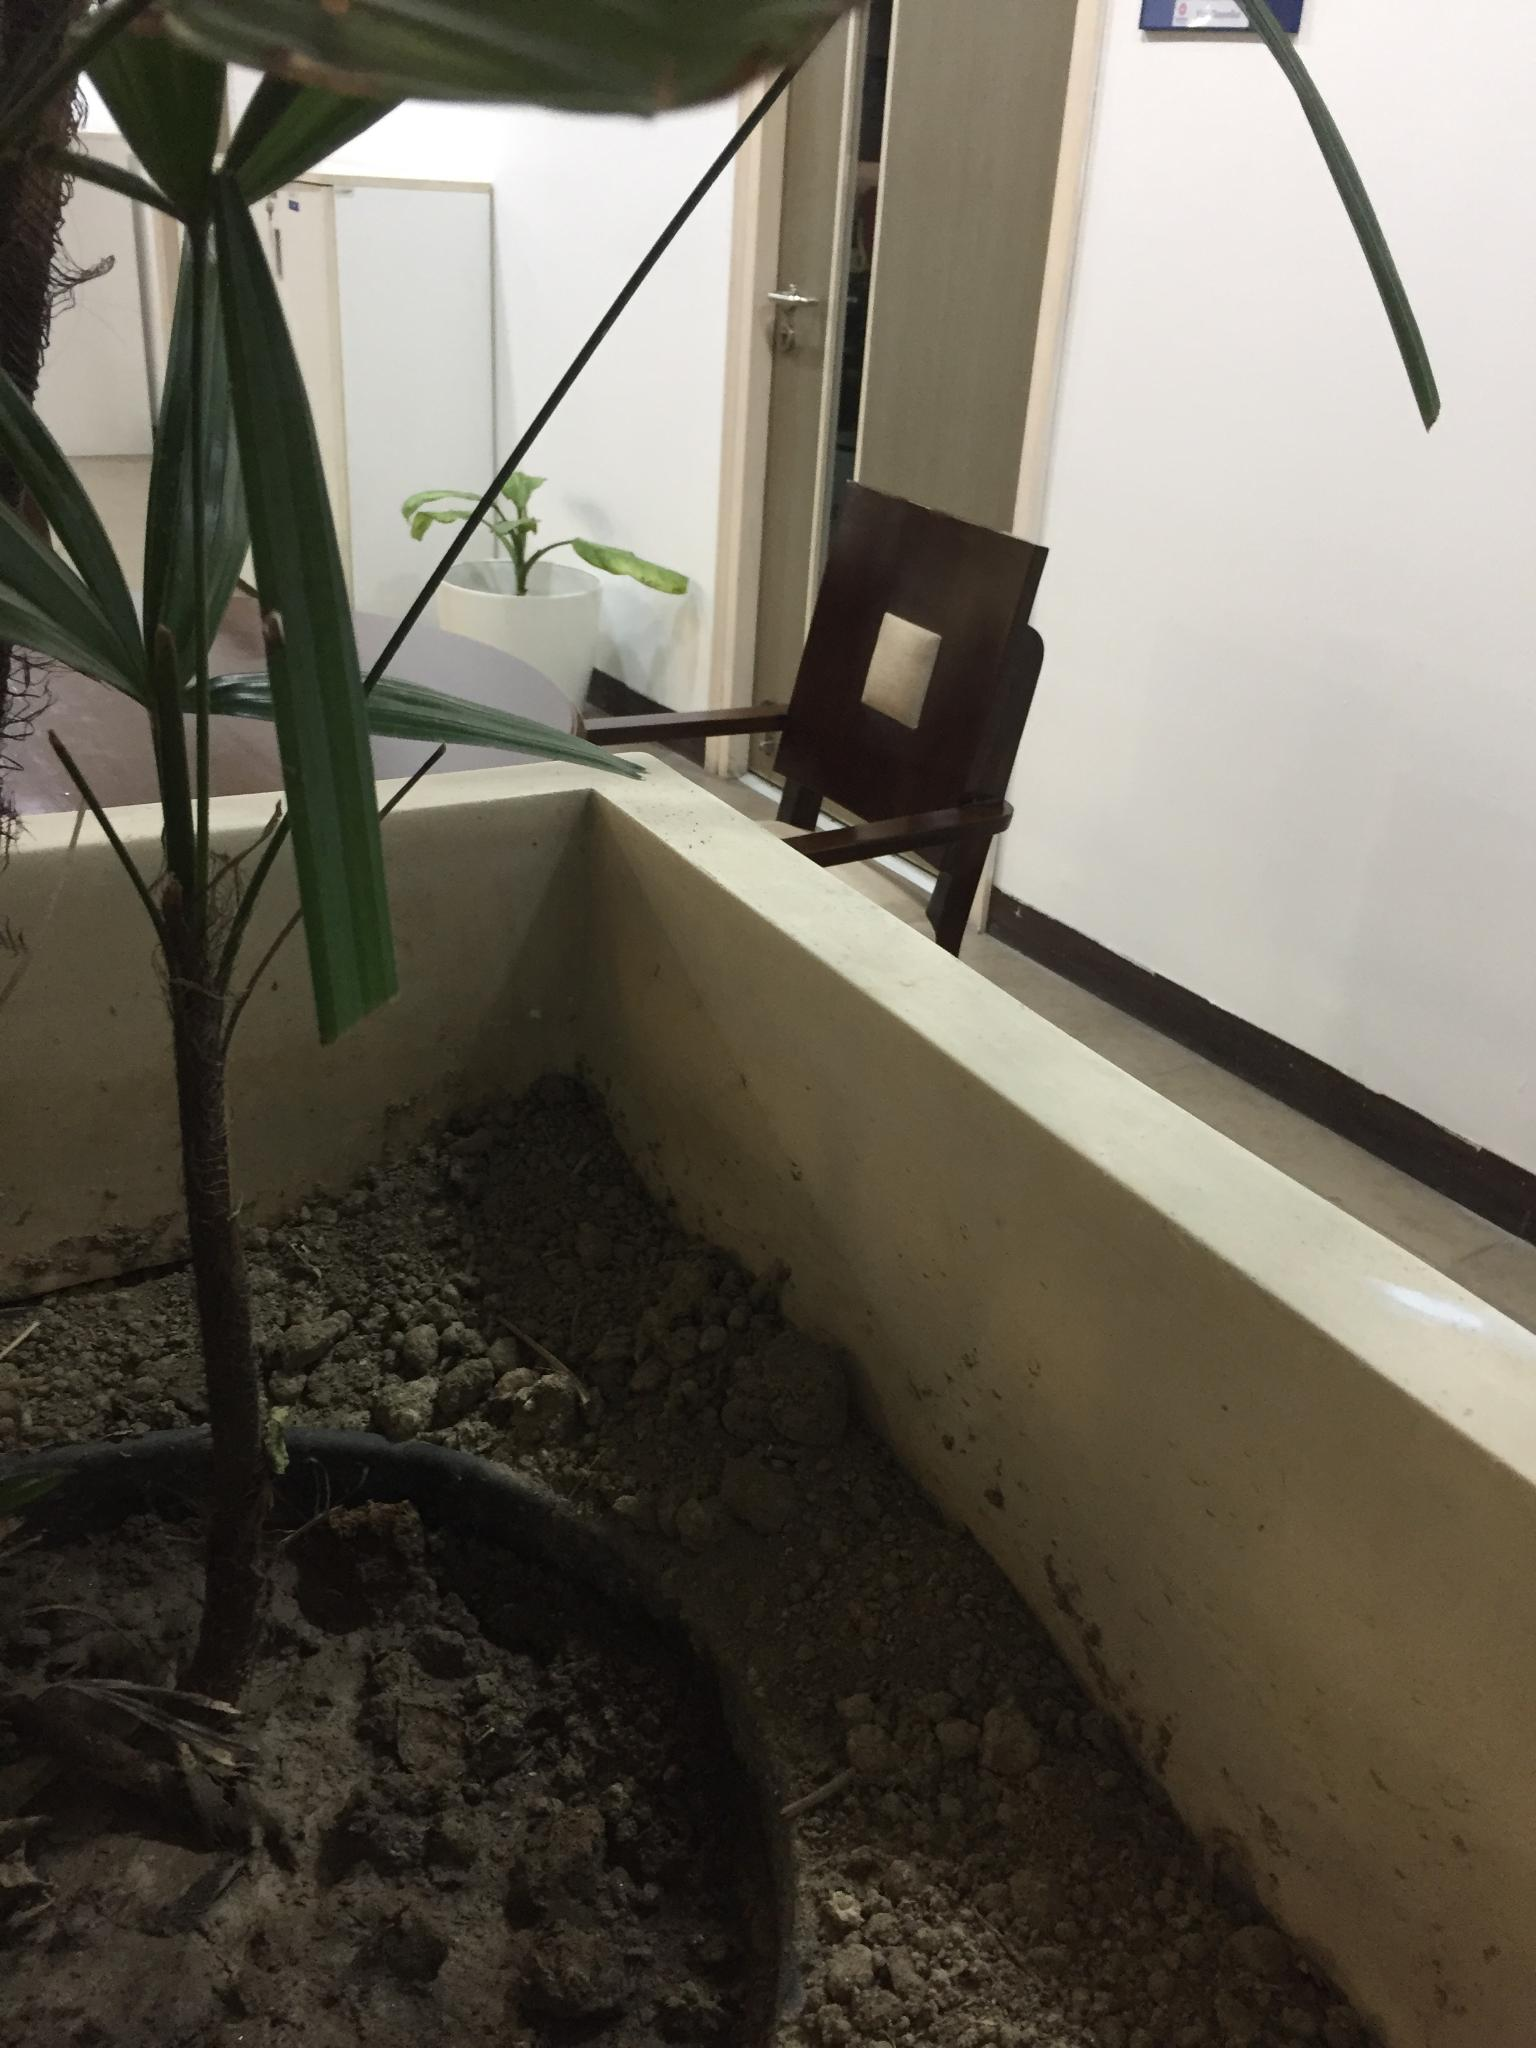chair: (574, 477, 1049, 958)
